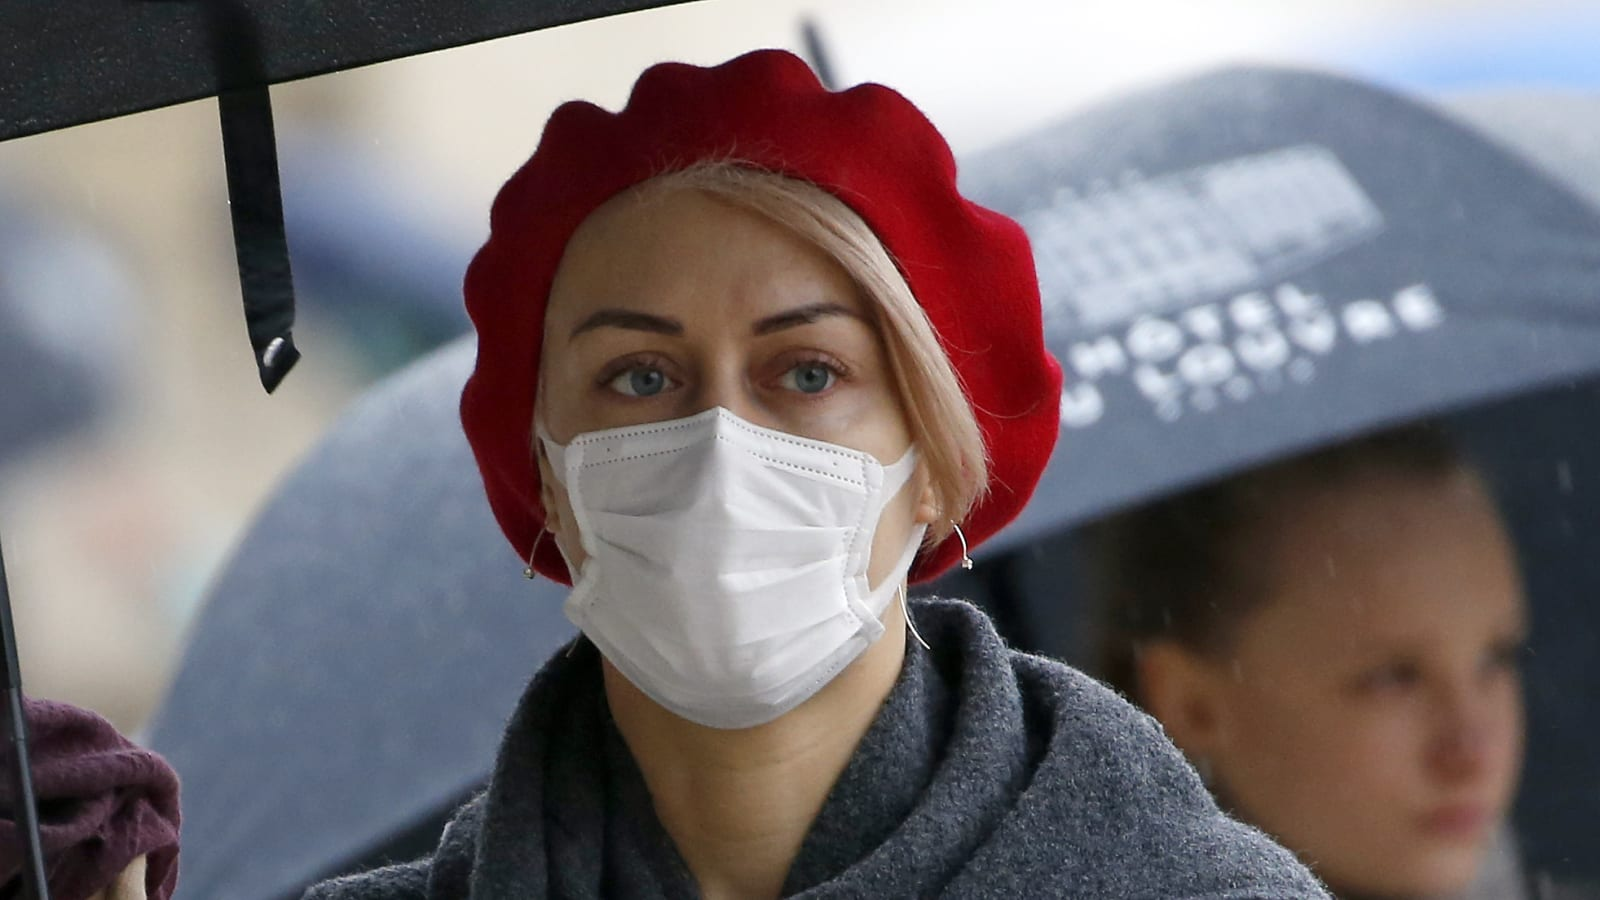bare: (1295, 697, 1520, 878)
surgical: (531, 411, 898, 729)
